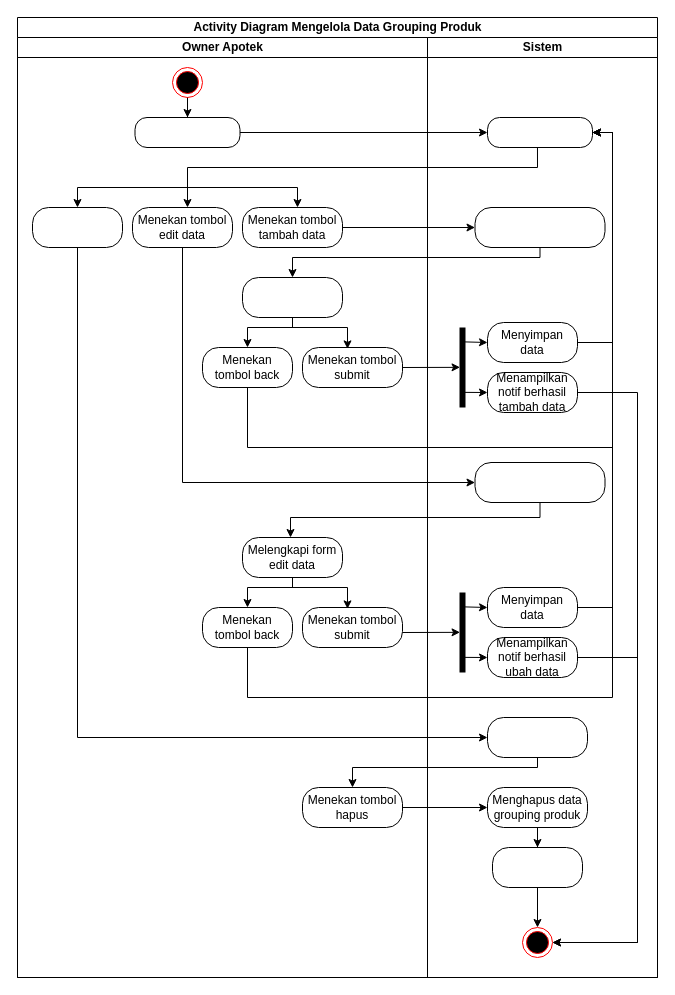
The diagram is 675 pixels wide and 995 high, and some of its shapes have lost their labels. Here are the shapes that lost their labels. From the top down, the centre of each, then its label:
At [187,132]: "Memilih menu grouping produk".
At [539,132]: "Menampilkan grouping produk".
At [77,227]: "Menekan checkbox".
At [539,227]: "Menampilkan halaman form tambah data".
At [292,297]: "Melengkapi form tambah data".
At [539,482]: "Menampilkan halaman form edit data".
At [537,737]: "Menampilkan tombol hapus".
At [537,867]: "Menampilkan notif berhasil hapus data".
